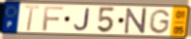5: (97, 6, 117, 35)
F: (42, 6, 66, 32)
G: (148, 9, 172, 35)
J: (72, 8, 91, 32)
N: (124, 7, 148, 36)
T: (24, 4, 41, 33)
